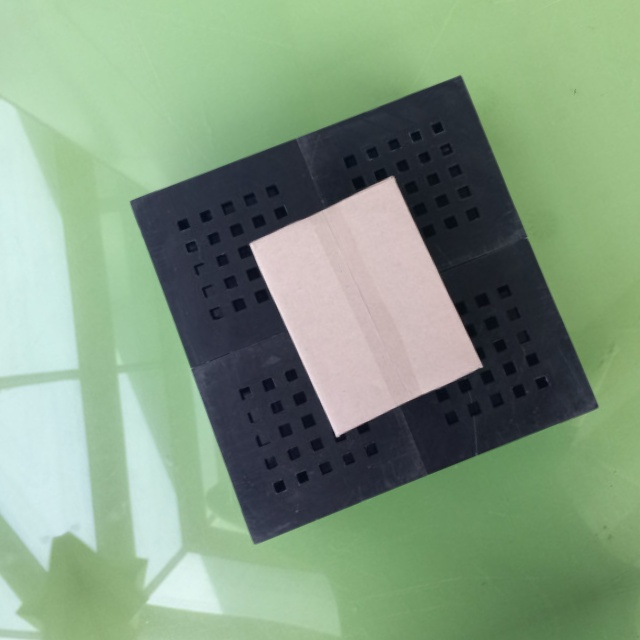box: (248, 176, 477, 439)
pallet: (111, 62, 606, 554)
